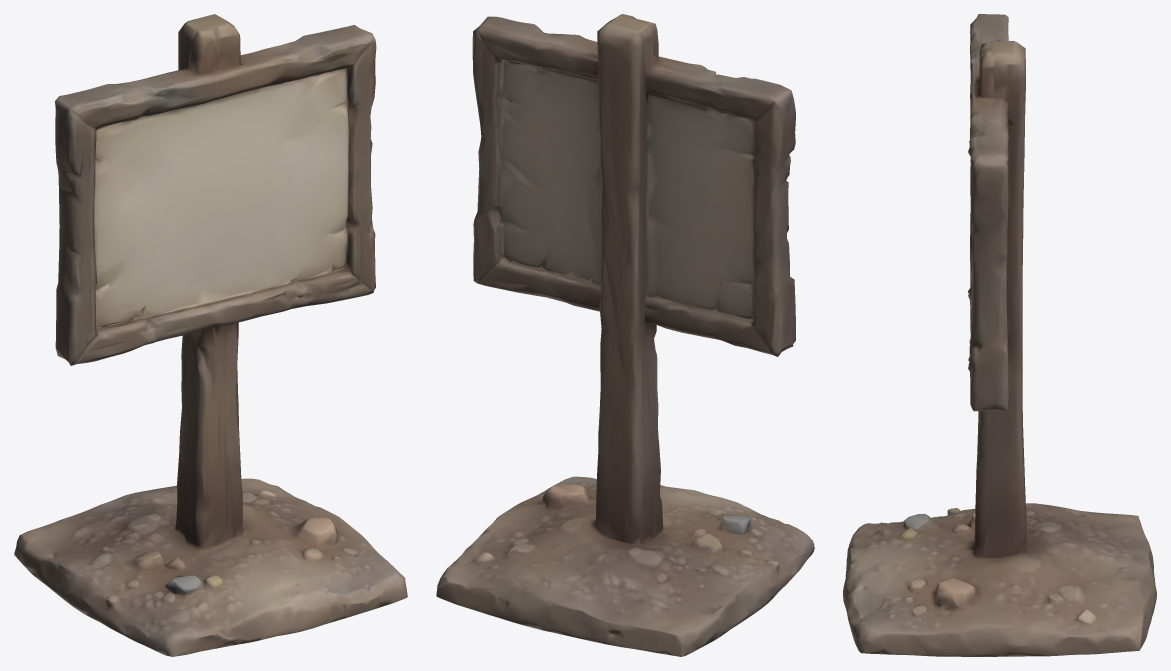
File: jetty_route_board.glb
3 views of the same model, side by side, from view 1: azimuth 30°, elevation 25°; view 2: azimuth 150°, elevation 25°; view 3: azimuth 270°, elevation 25° (orthographic).
Parts seen in each view (by area): view 1: tripo_node_9e158af4-8756-4760-8dd1-2cf597493504; view 2: tripo_node_9e158af4-8756-4760-8dd1-2cf597493504; view 3: tripo_node_9e158af4-8756-4760-8dd1-2cf597493504.
Boxes of the visible parts, left/top/right/bottom form: tripo_node_9e158af4-8756-4760-8dd1-2cf597493504: left=14, top=14, right=407, bottom=656; tripo_node_9e158af4-8756-4760-8dd1-2cf597493504: left=436, top=14, right=814, bottom=656; tripo_node_9e158af4-8756-4760-8dd1-2cf597493504: left=843, top=14, right=1156, bottom=656.
Bounding box in the file's own units: 0.5836 × 1 × 0.5217.
Materials: 1 (1 with a texture image).
